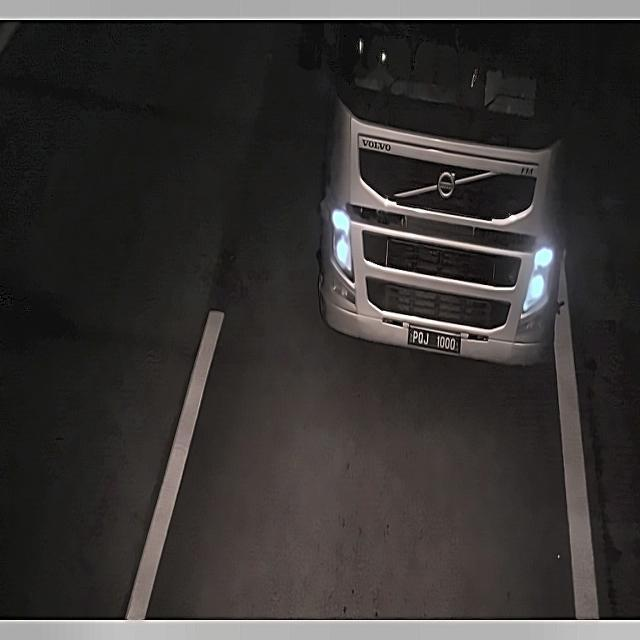car: (402, 317, 466, 362)
